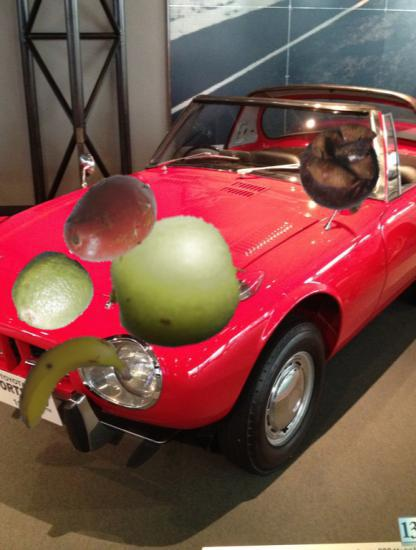Apple: (108, 212, 248, 352)
Banana: (9, 324, 128, 443)
Limes: (10, 252, 92, 334)
Mangostan: (294, 118, 389, 213)
Potato: (59, 168, 163, 272)
